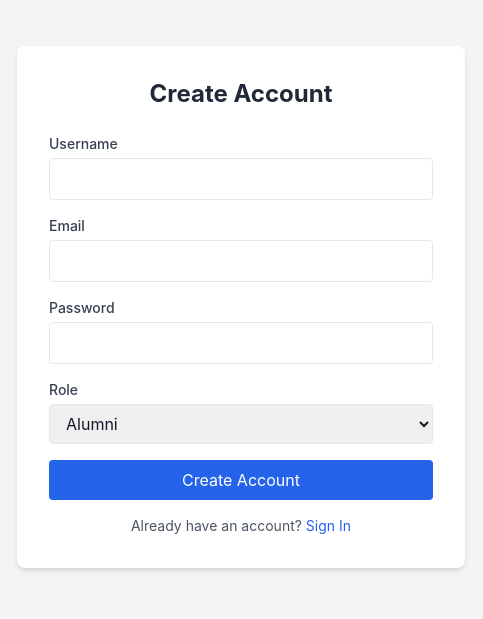
it: RegisterPage › shows server error on duplicate username
The width and height of the screenshot is (483, 619).
Type "dup" into the field below "Username".
click(241, 179); type("dup")  # box [49,158,433,200]
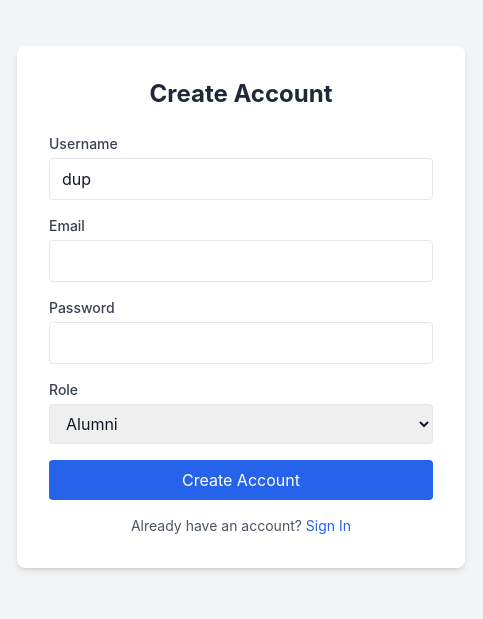
Type "d@t.com" into the field below "Email".
click(241, 261); type("d@t.com")  # box [49,240,433,282]
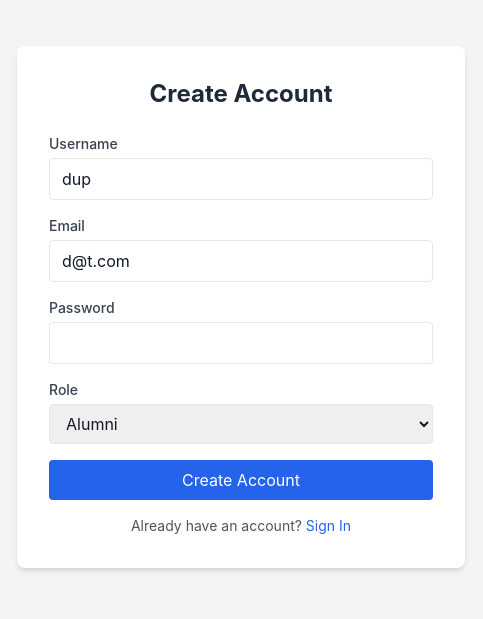
Type "Pass1234" into the password field.
click(241, 343); type("Pass1234")  # box [49,322,433,364]
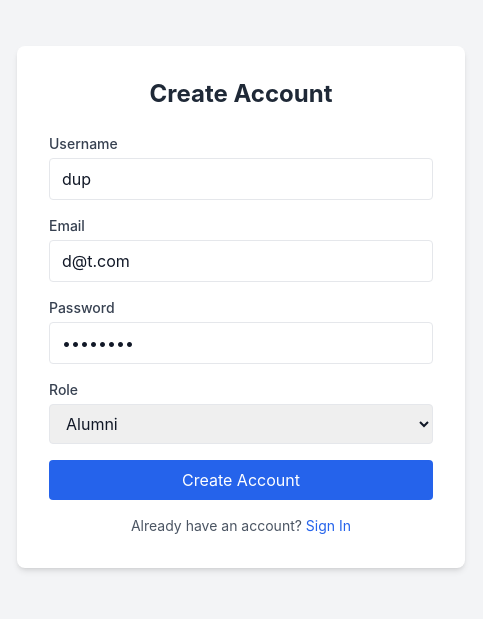
Click the button "Create Account".
click(241, 480)  # box [49,460,433,500]
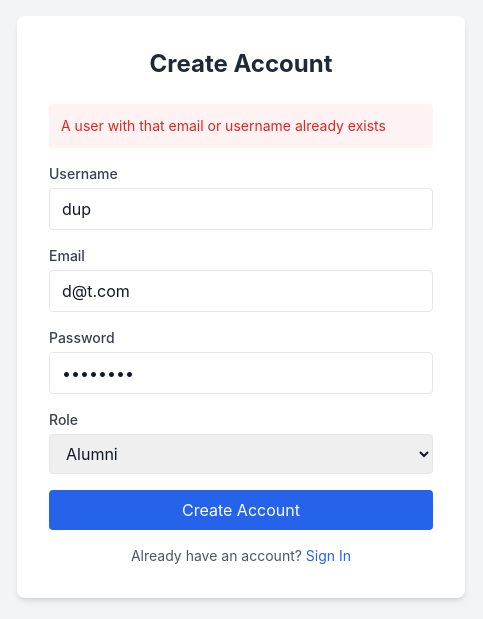
Check: the text "A user with that email or username already exists" is shown, box [49,104,433,148]
